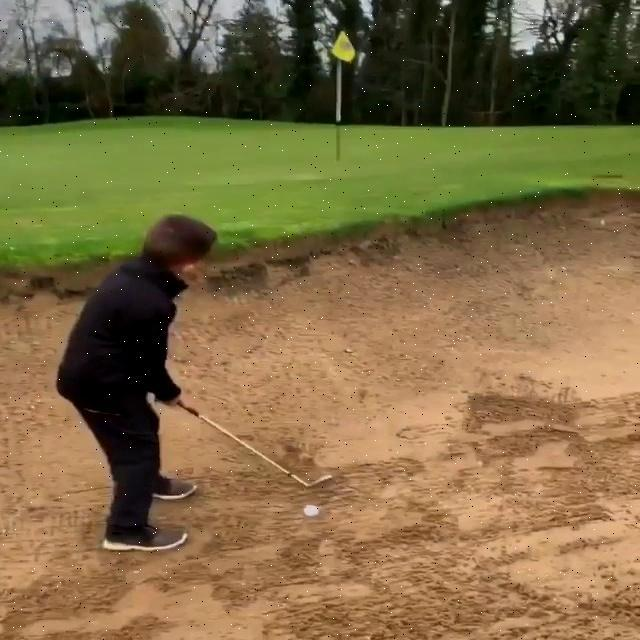golf ball: (304, 506, 320, 518)
golf club-handle: (174, 397, 337, 489)
golf club-head: (309, 476, 338, 489)
